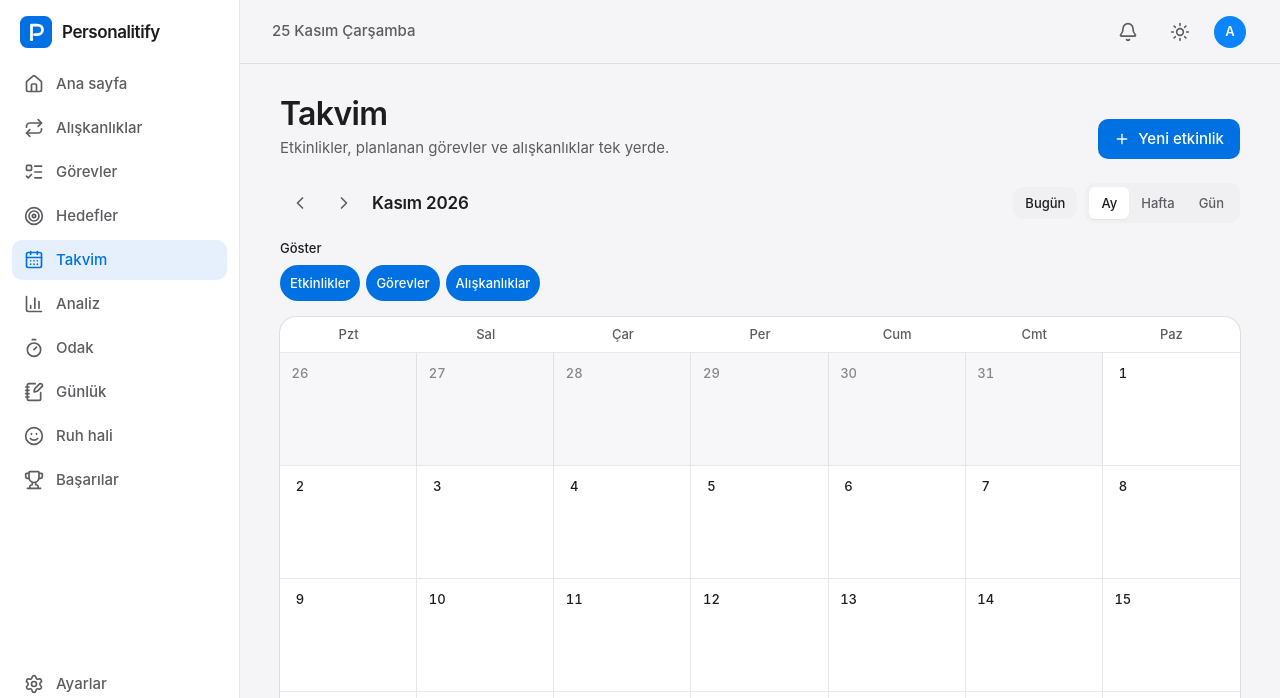
calendar page › navigates between months, switches views and opens a day
Click the button named "Sonraki ay" at (344, 203), box [324,183,364,223]
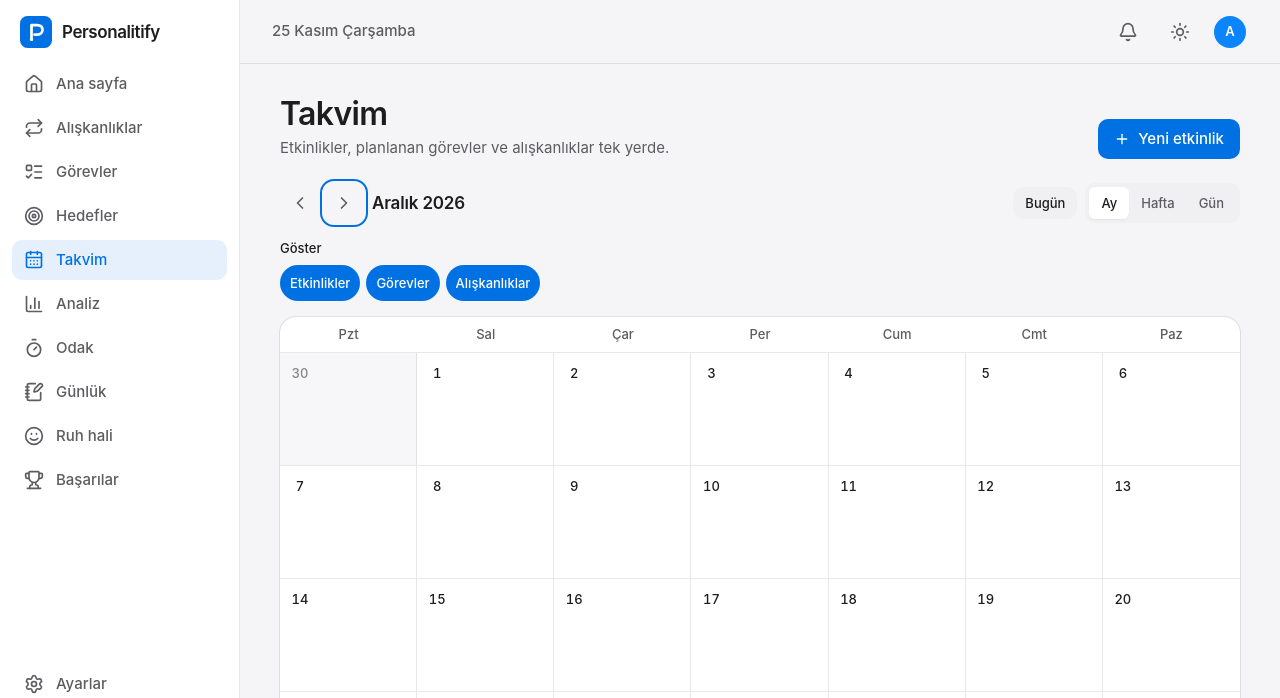
Click the radio button labelled "Hafta" at (1158, 203), box [1141,195,1175,211]
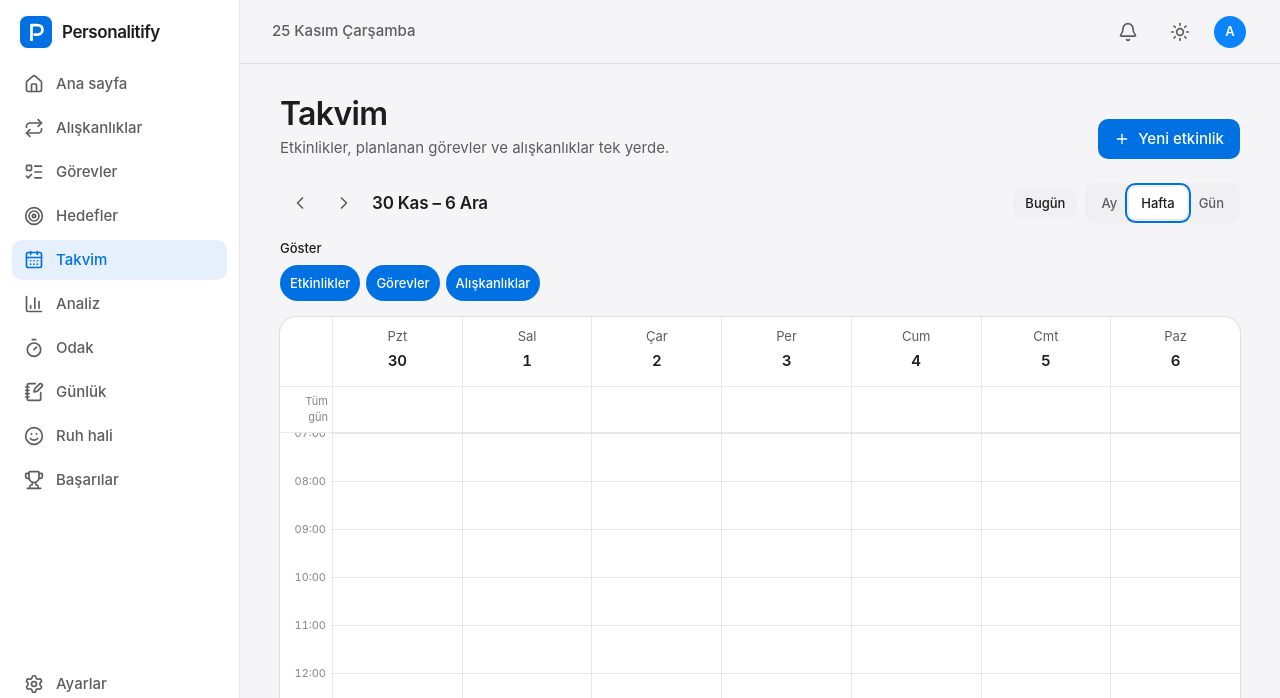
Check: the heading "30 Kas – 6 Ara" is shown, box [372,192,488,215]
Click the button "Bugün" at (1045, 203), box [1013,187,1078,219]
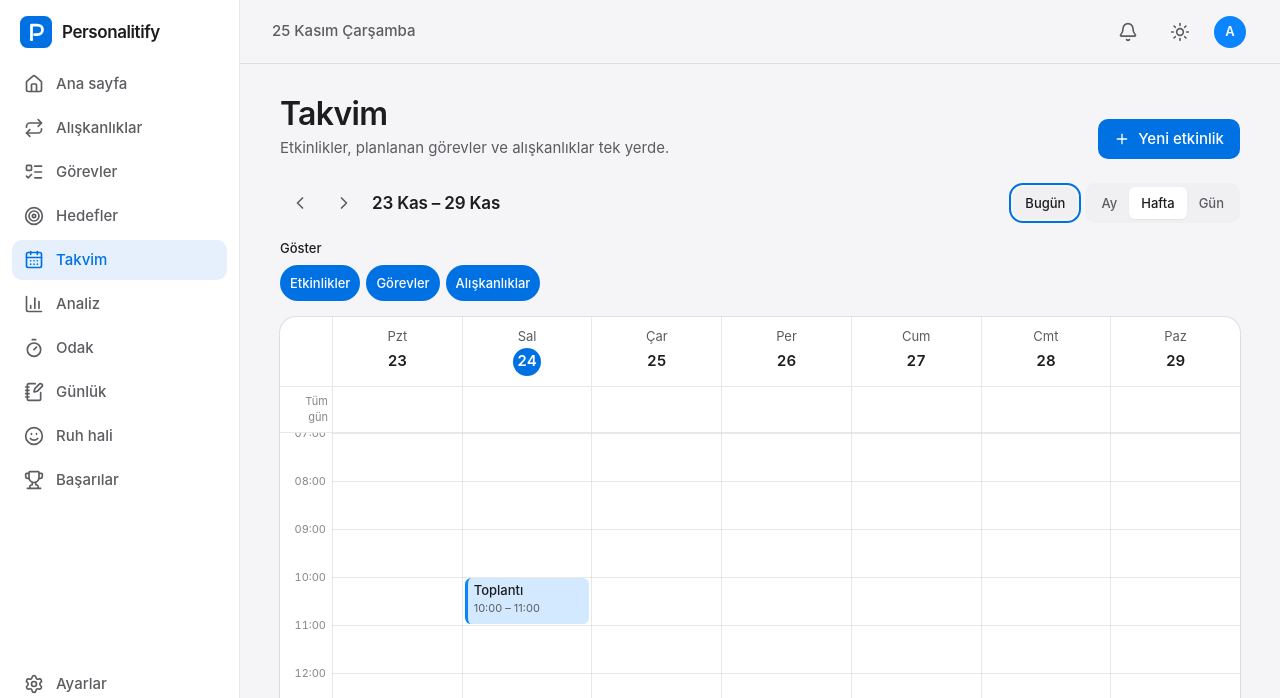
Click the button with aria-label "24 Kasım Salı" at (527, 352), box [505,326,549,378]
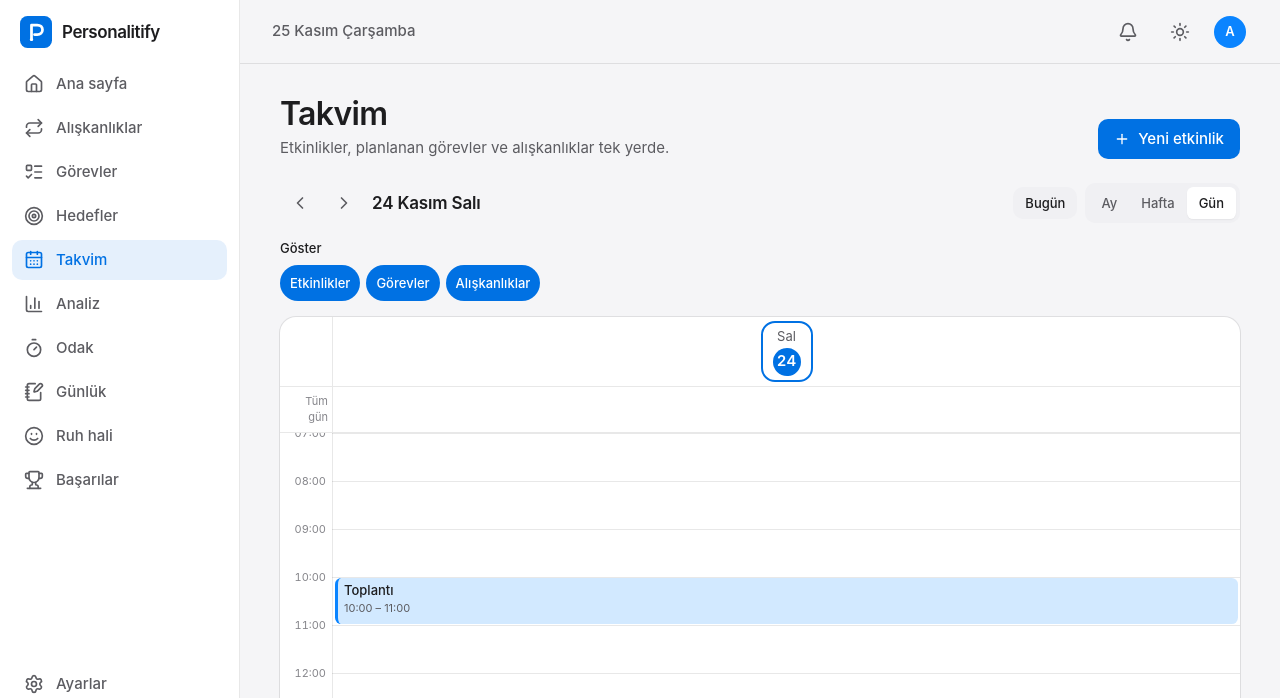
Check: the button with aria-label "Toplantı, Etkinlik, 10:00 – 11:00" is shown, box [335,578,1238,624]
Check: the heading "24 Kasım Salı" is shown, box [372,192,480,215]
